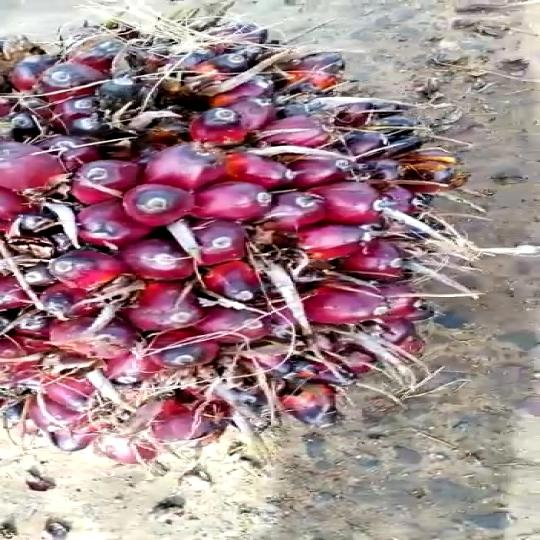masak: (0, 18, 540, 480)
